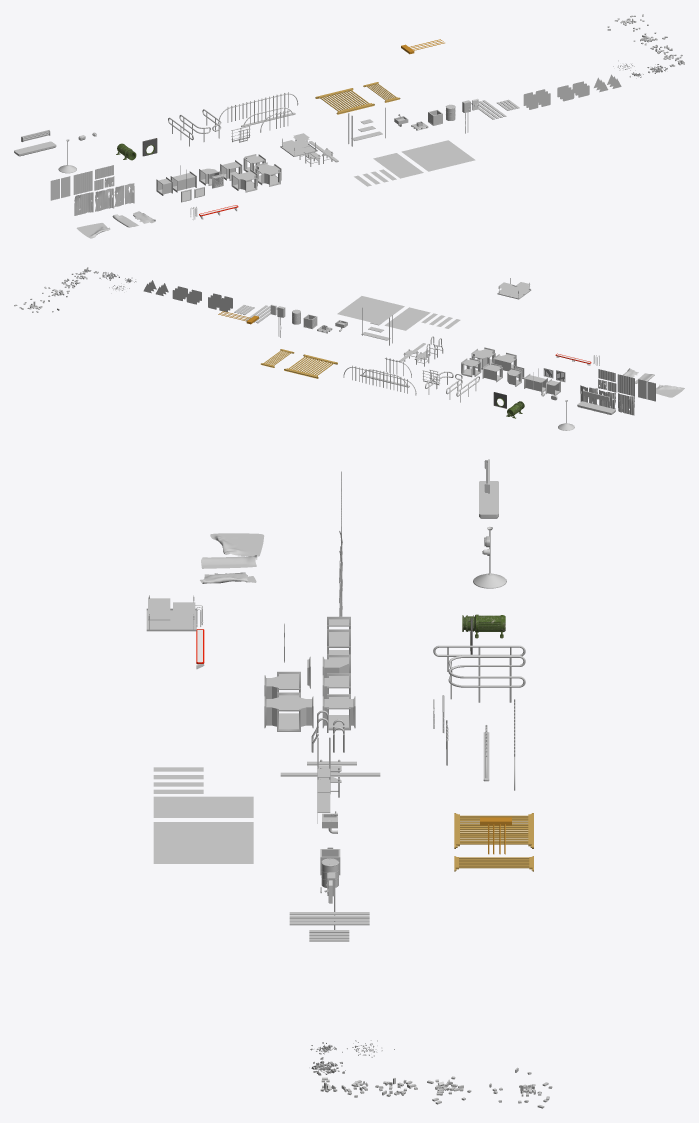
File: Sewerage_Props.fbx
The picture shows the model from 3 angles, top to bottom: view 1: azimuth 30°, elevation 25°; view 2: azimuth 150°, elevation 25°; view 3: azimuth 270°, elevation 25°; orthographic projection. The views are drawn at different scales.
Visible parts, largest first — view 1: SW_5_Water_Flush_Grid_5x5m, SW_Walking_Grid, SW_5_Water_Flush_Grid_2.5x5m, SW_Vent_Pipe_Ceiling_Cross_2, SW_Railing_02_2, SW_Vent_Pipe_Ceiling_T_2, SW_Metal_Plane_02, SW_Metal_Plane_01, SW_Vent_Pipe_Ceiling_02, SW_Metal_Plane_03; view 2: SW_5_Water_Flush_Grid_5x5m, SW_Walking_Grid, SW_5_Water_Flush_Grid_2.5x5m, SW_Railing_02_2, SW_Vent_Pipe_Ceiling_Cross_2, SW_Metal_Plane_01, SW_Vent_Pipe_Ceiling_Cross_1, SW_Metal_Plane_02, SW_Vent_Pipe_Ceiling_02, SW_Vent_Pipe_Ceiling_T_2, SW_Vent_Pipe_Ceiling_T_1, SW_Light_3 (+1 smaller); view 3: SW_5_Water_Flush_Grid_5x5m, SW_5_Water_Flush_Grid_2.5x5m, SW_Walking_Grid, SW_Vent_Pipe_Ceiling_Cross_2, SW_Fabric_Dirt_01_01, SW_Vent_Pipe_Ceiling_Cross_1, SW_Walking_Grid_Small.
Part boxes in pixels (bbox=[...]): SW_5_Water_Flush_Grid_5x5m: bbox=[401, 140, 475, 171]; SW_Walking_Grid: bbox=[315, 88, 374, 114]; SW_5_Water_Flush_Grid_2.5x5m: bbox=[373, 153, 423, 178]; SW_Vent_Pipe_Ceiling_Cross_2: bbox=[255, 162, 281, 186]; SW_Railing_02_2: bbox=[218, 92, 298, 123]; SW_Vent_Pipe_Ceiling_T_2: bbox=[231, 169, 257, 192]; SW_Metal_Plane_02: bbox=[74, 192, 93, 215]; SW_Metal_Plane_01: bbox=[73, 171, 92, 194]; SW_Vent_Pipe_Ceiling_02: bbox=[170, 171, 196, 192]; SW_Metal_Plane_03: bbox=[95, 188, 114, 211]; SW_5_Water_Flush_Grid_5x5m: bbox=[337, 296, 404, 322]; SW_Walking_Grid: bbox=[284, 354, 337, 378]; SW_5_Water_Flush_Grid_2.5x5m: bbox=[384, 307, 430, 330]; SW_Railing_02_2: bbox=[343, 365, 416, 395]; SW_Vent_Pipe_Ceiling_Cross_2: bbox=[471, 347, 495, 369]; SW_Metal_Plane_01: bbox=[617, 374, 634, 396]; SW_Vent_Pipe_Ceiling_Cross_1: bbox=[461, 358, 481, 377]; SW_Metal_Plane_02: bbox=[618, 393, 634, 415]; SW_Vent_Pipe_Ceiling_02: bbox=[524, 374, 547, 393]; SW_Vent_Pipe_Ceiling_T_2: bbox=[493, 352, 516, 371]; SW_Vent_Pipe_Ceiling_T_1: bbox=[482, 363, 502, 382]; SW_Light_3: bbox=[577, 401, 615, 414]; SW_5_Water_Flush_Grid_5x5m: bbox=[153, 822, 253, 863]; SW_5_Water_Flush_Grid_2.5x5m: bbox=[153, 796, 253, 817]; SW_Walking_Grid: bbox=[454, 813, 533, 848]; SW_Vent_Pipe_Ceiling_Cross_2: bbox=[264, 692, 313, 731]; SW_Fabric_Dirt_01_01: bbox=[210, 533, 264, 556]; SW_Vent_Pipe_Ceiling_Cross_1: bbox=[322, 694, 355, 730]; SW_Walking_Grid_Small: bbox=[454, 856, 533, 871].
Bounding box in the file's own units: 6839 × 781 × 2030.
